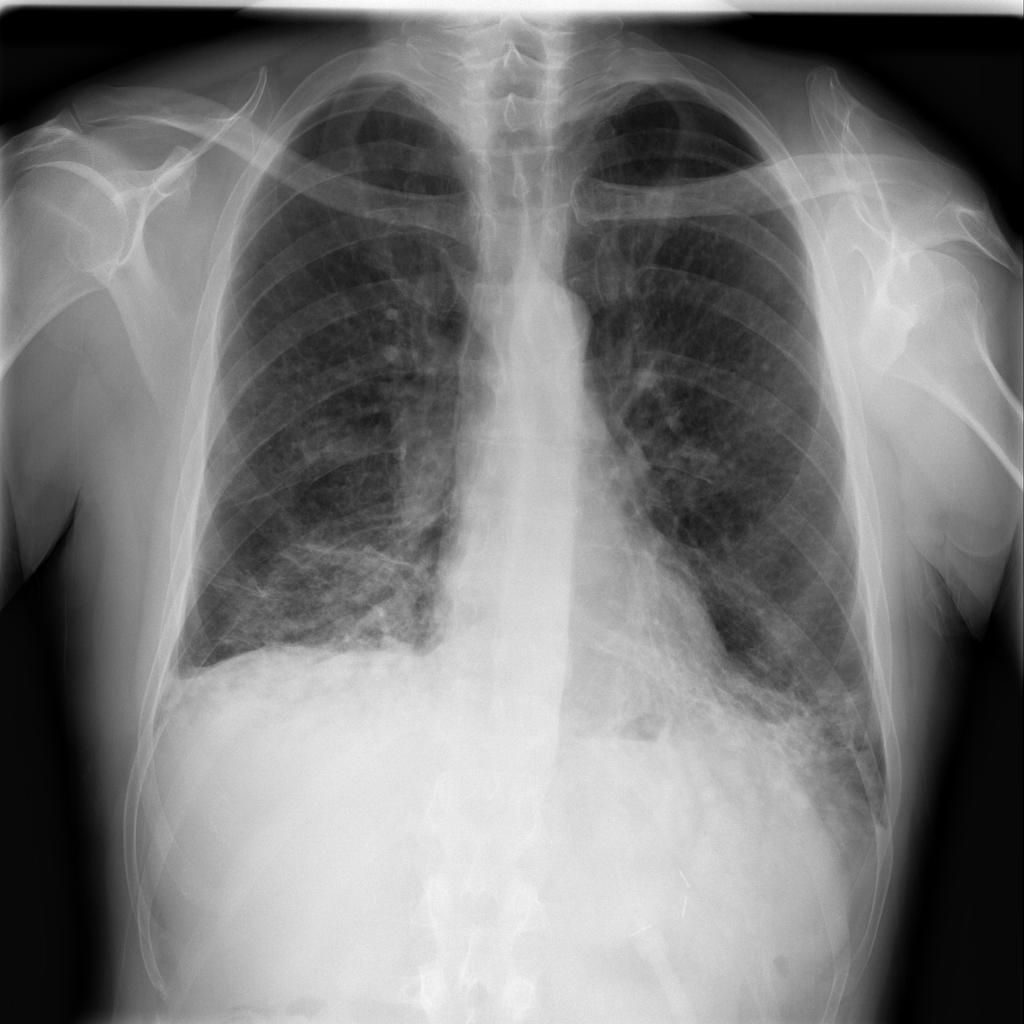nodule: (285, 407, 371, 483)
